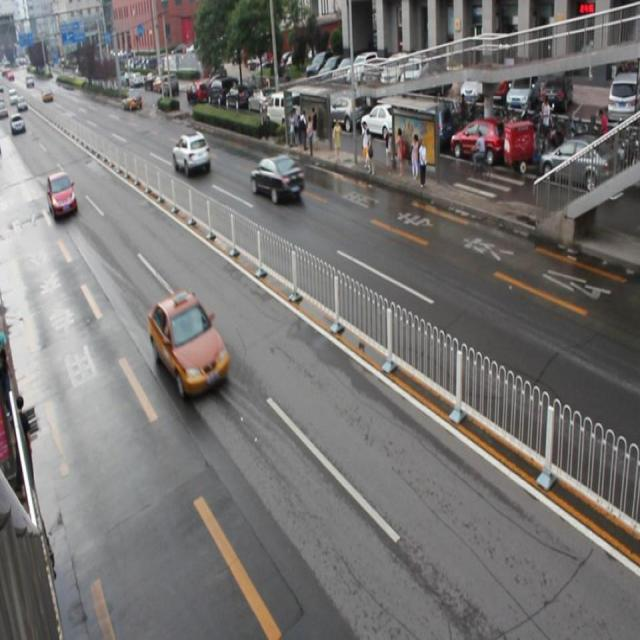car: (148, 292, 228, 397), (250, 153, 304, 201), (172, 133, 211, 173), (47, 172, 78, 218)
